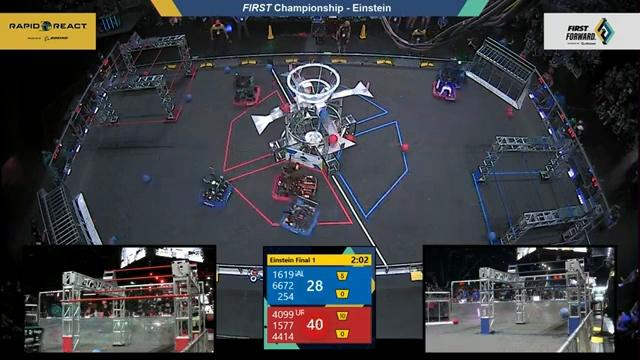robot: (260, 163, 327, 202), (275, 197, 328, 243), (194, 163, 237, 212), (438, 49, 479, 92), (225, 70, 265, 111), (429, 75, 460, 111)
